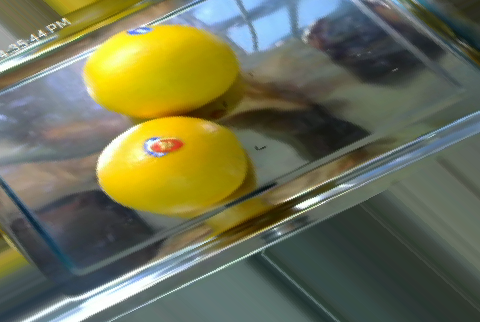Orange: (94, 116, 247, 216), (81, 24, 237, 117)
